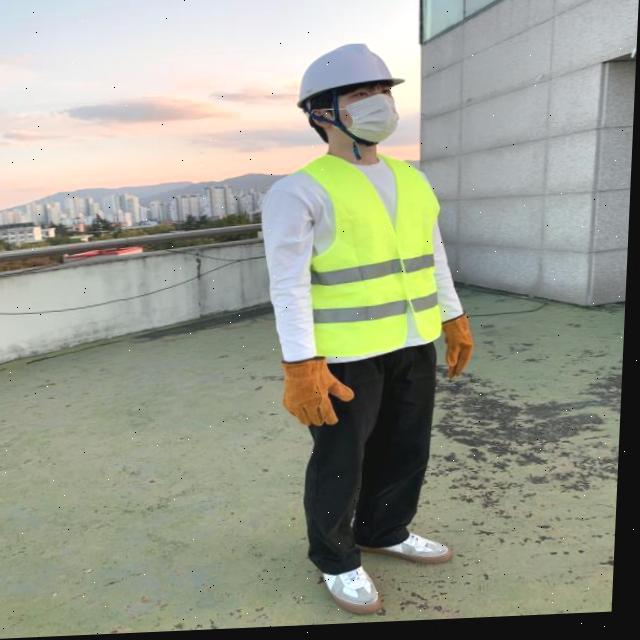Gloves: (281, 357, 359, 431), (442, 317, 478, 384)
Helmet: (297, 43, 407, 109)
Safety-Boot: (358, 533, 457, 571), (324, 567, 390, 620)
Safety-Vest: (291, 152, 452, 367)
